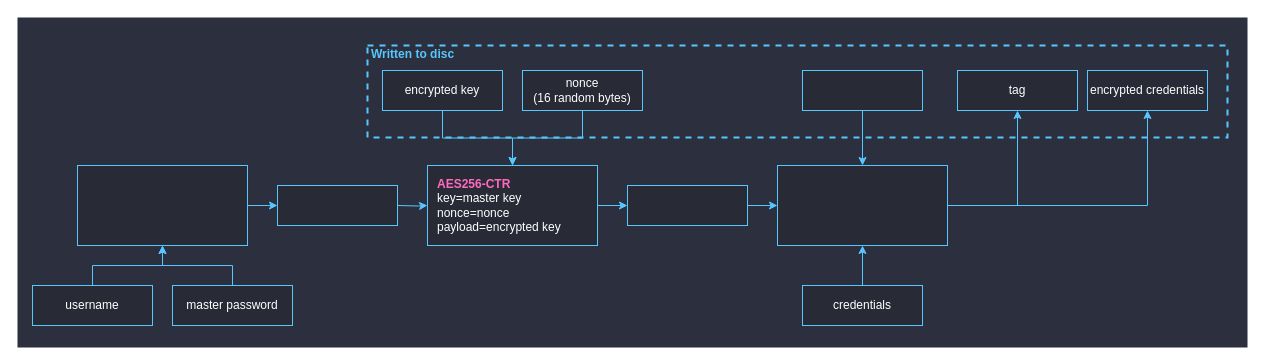
This 1264x364 diagram has some shape labels left out. Here are the shapes that lost their labels. From the top down, the centre of each, then its label:
(862,90): iv (12 random bytes)
(162,205): PBKDF2-SHA256 iterations=100 000 salt=username payload=master password
(337,205): master key
(687,205): key
(862,205): Authenticated Encryption (AES-256 GCM) key=key iv=iv payload=credentials
